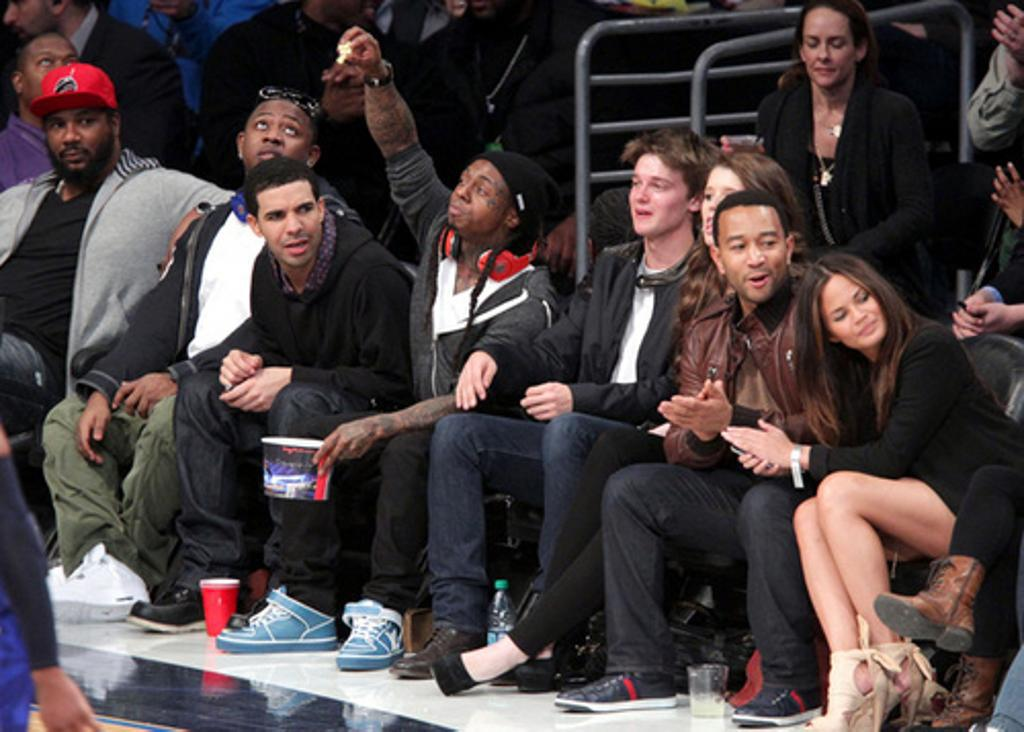face: (721, 207, 787, 302), (45, 96, 107, 182), (822, 273, 889, 350), (261, 187, 321, 266), (630, 154, 686, 236), (448, 158, 506, 232), (248, 98, 308, 168), (801, 16, 855, 88), (702, 169, 751, 247), (26, 38, 75, 97), (3, 1, 56, 32)
